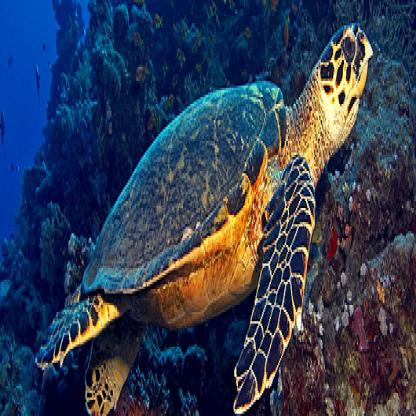turtle: (314, 4, 375, 154)
